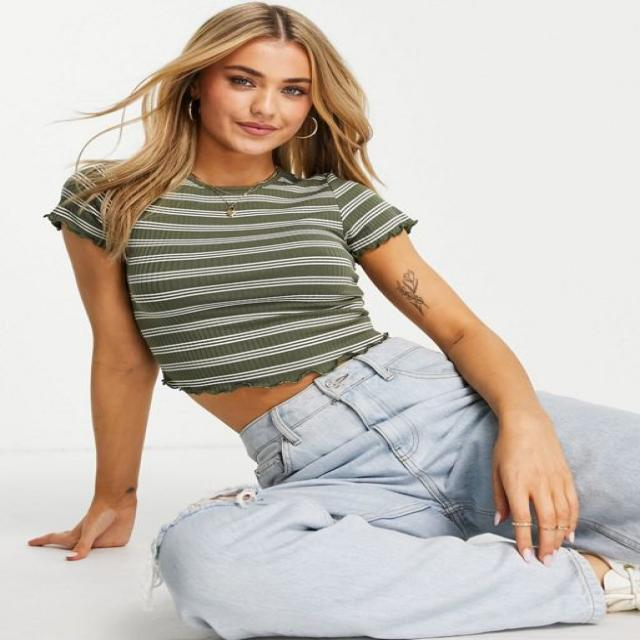tshirt: (44, 155, 419, 396)
